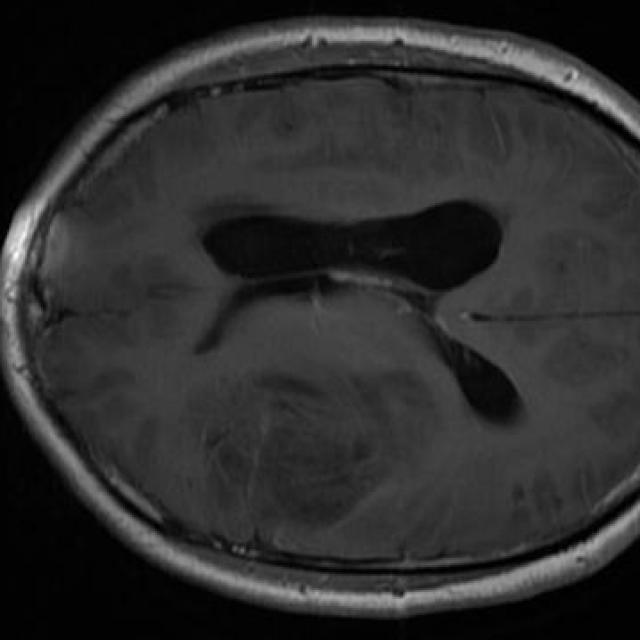glioma: (187, 369, 430, 553)
